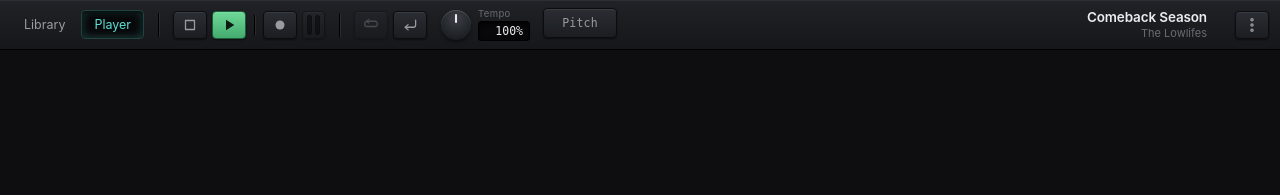
the song name in the header › keeps every character typed into the artist
This screenshot has width=1280, height=195.
Click the button with aria-label "Song name and artist" at (1147, 17), box [624,6,1214,43]
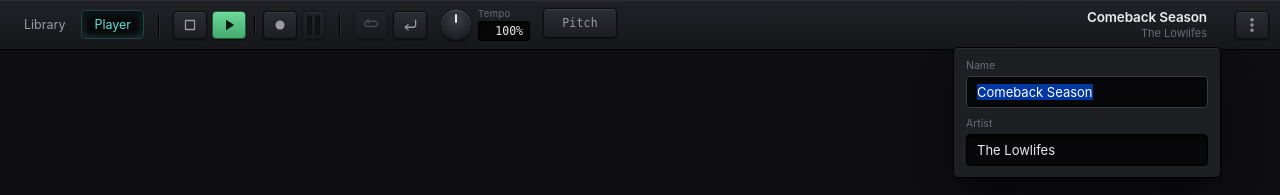
Replace the text in the field labelled "Artist" with "Somebody Else" at (1087, 150), box [966,134,1208,166]
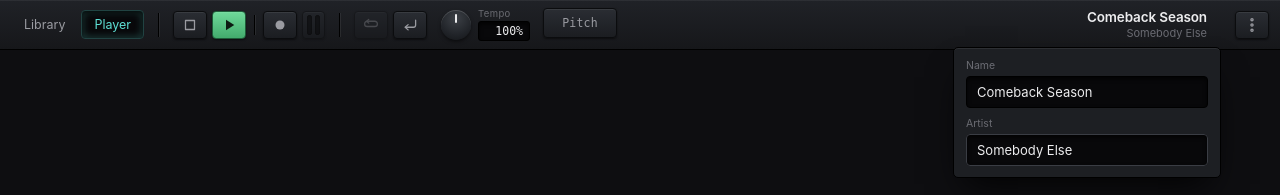
Expected: the text "Somebody Else" is shown, [1126,26,1207,40]
